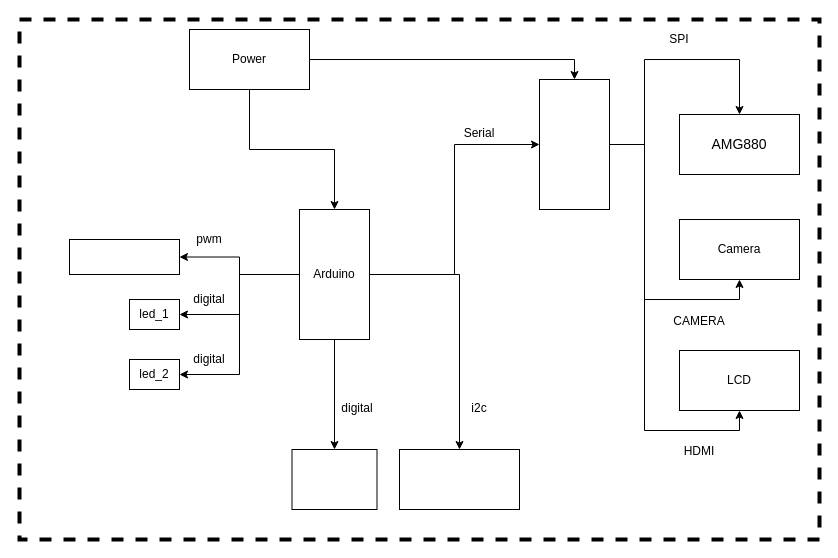
Image size: 838x558. Some labels were removed from this diagram. Each missing label, with the box of its shape:
Line sensor: (291, 448, 377, 510)
Mod ir temp: (398, 448, 520, 510)
Raspberry: (538, 78, 610, 210)
Пьезо: (68, 238, 180, 274)
